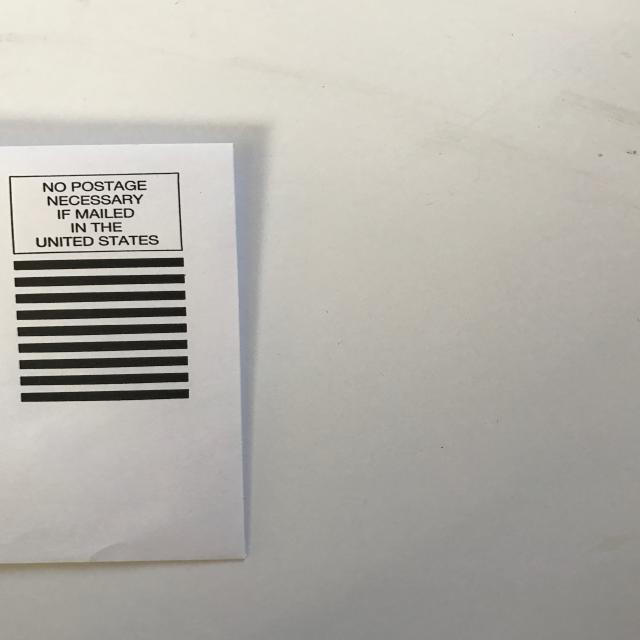paper: (0, 100, 306, 606)
